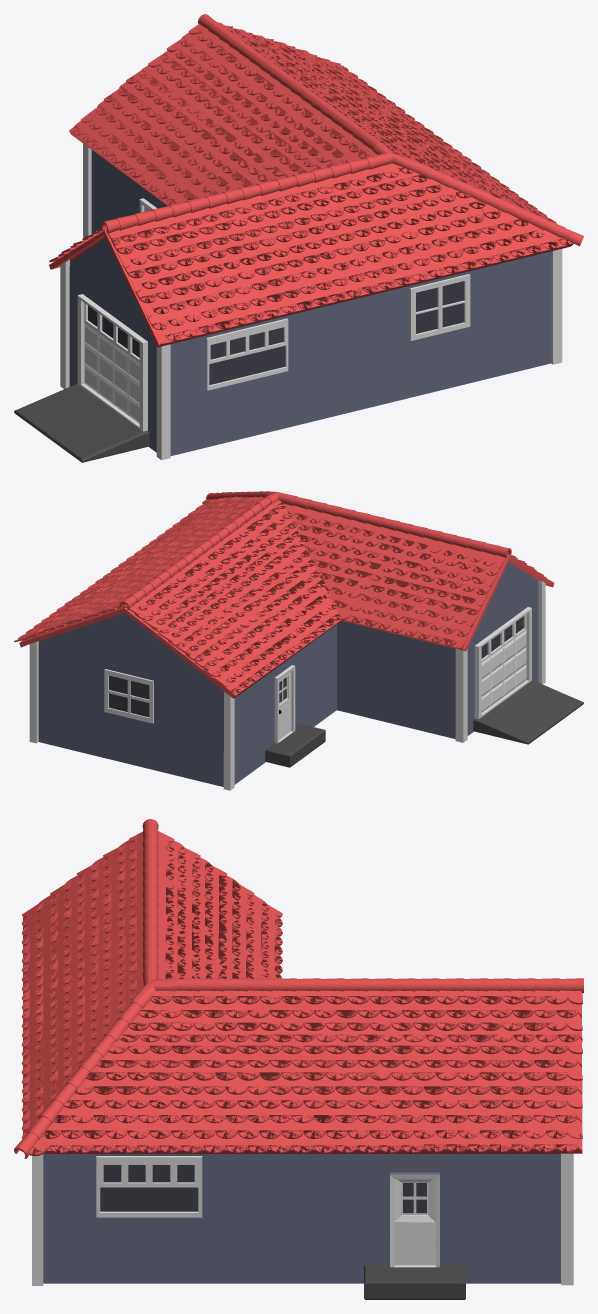
The model's file is blue_house.fbx.
3 renders of one model, top to bottom at view 1: azimuth 30°, elevation 25°; view 2: azimuth 150°, elevation 25°; view 3: azimuth 270°, elevation 25°, orthographic. The views are drawn at different scales.
Visible parts, largest first — view 1: house; view 2: house; view 3: house.
Part boxes in pixels (x1,y1,x2,y2): house: [14, 14, 583, 462]; house: [14, 491, 583, 790]; house: [14, 819, 583, 1299].
Bounding box in the file's own units: 1609 × 642 × 1393.
